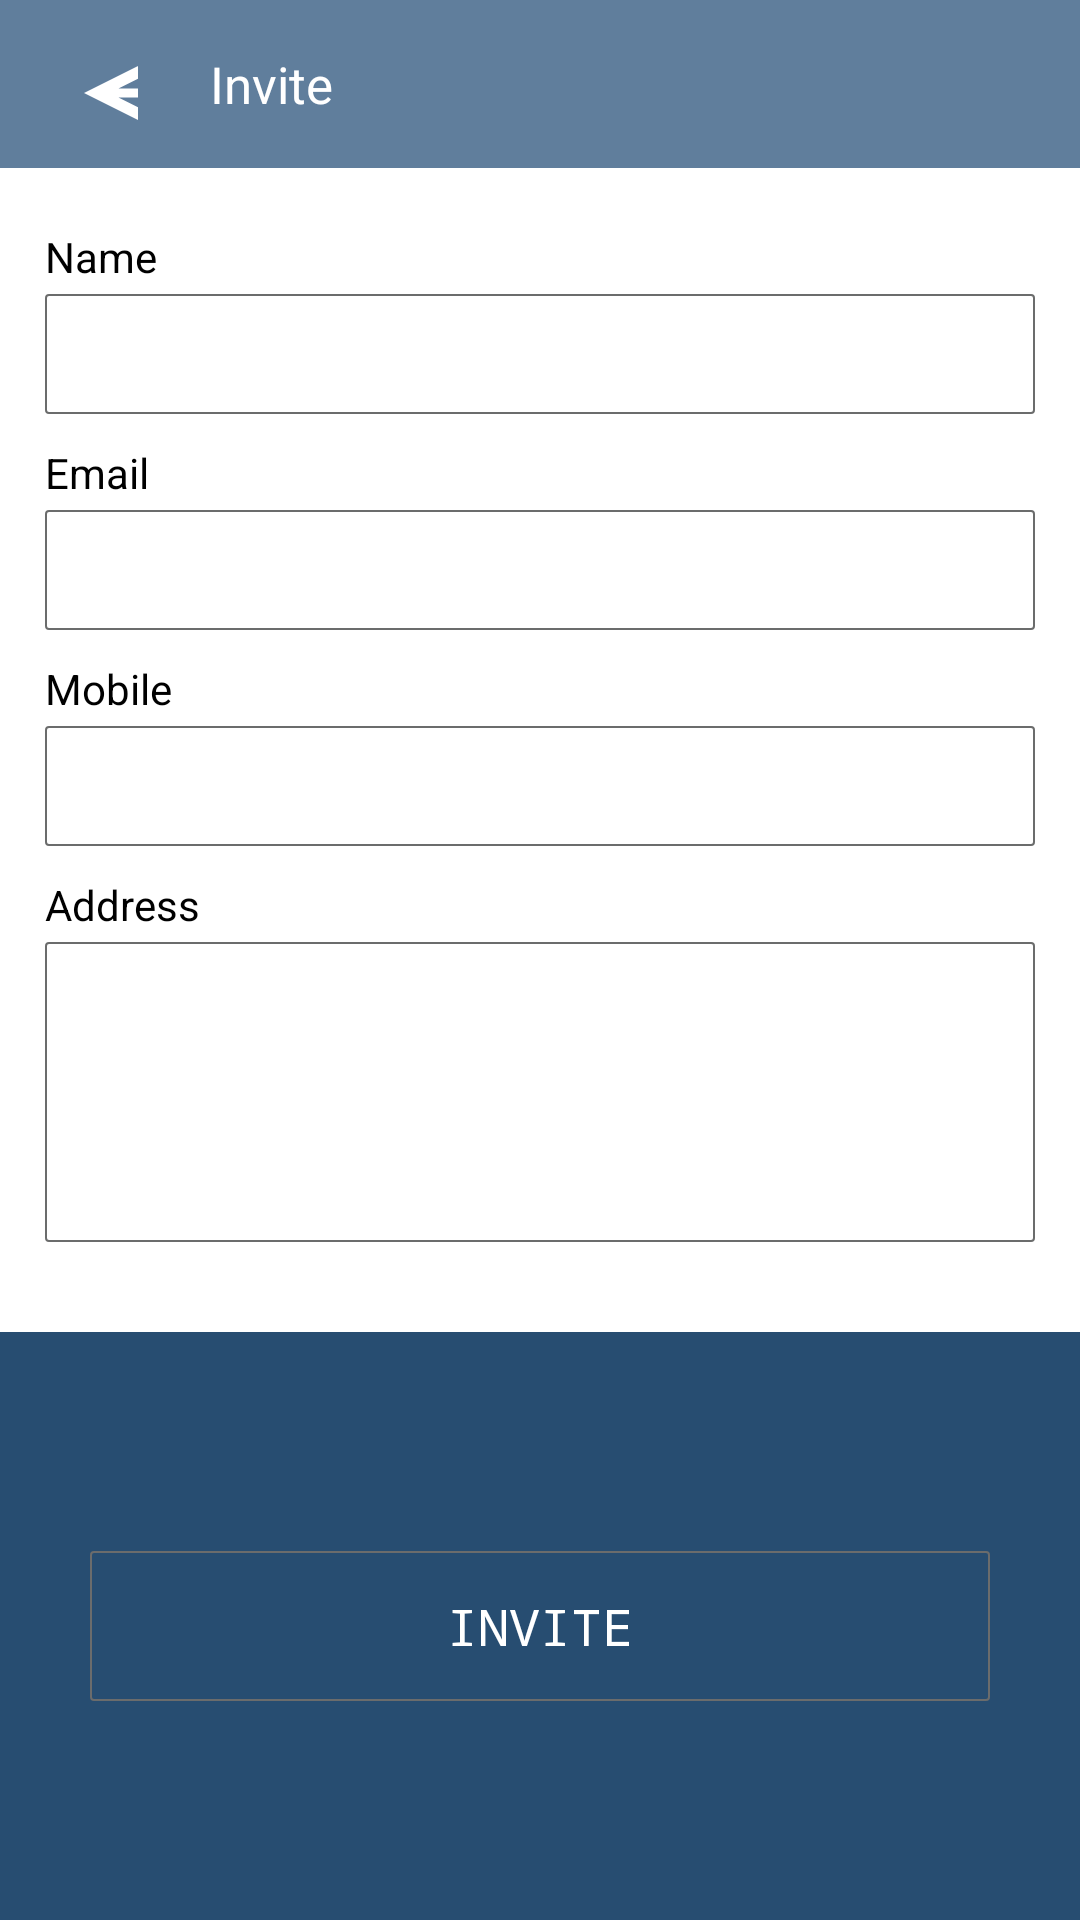

Where to tap for icons on this 1080×1920 app screen, as point (x, y):
arrow back: point (111, 93)
